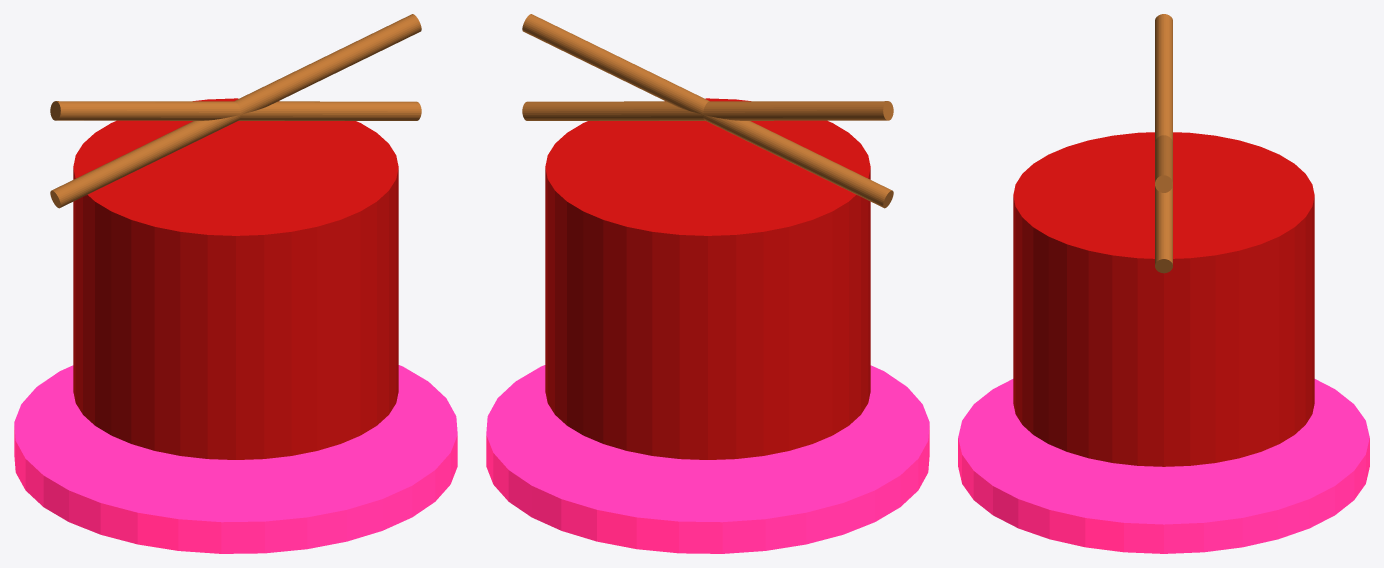
The model's file is music_drum.dae.
3 views of the same model, side by side, from view 1: azimuth 30°, elevation 25°; view 2: azimuth 150°, elevation 25°; view 3: azimuth 270°, elevation 25° (orthographic). The views are drawn at different scales.
Visible parts, largest first — view 1: 07_09_Popular_Music_Drum_part_01, 07_09_Popular_Music_Drum_ROOT_base, 07_09_Popular_Music_Drum_part_03, 07_09_Popular_Music_Drum_part_02; view 2: 07_09_Popular_Music_Drum_part_01, 07_09_Popular_Music_Drum_ROOT_base, 07_09_Popular_Music_Drum_part_03, 07_09_Popular_Music_Drum_part_02; view 3: 07_09_Popular_Music_Drum_part_01, 07_09_Popular_Music_Drum_ROOT_base, 07_09_Popular_Music_Drum_part_02, 07_09_Popular_Music_Drum_part_03.
Part boxes in pixels (box(x1,y1,x2,y2)): 07_09_Popular_Music_Drum_part_01: box(73, 98, 398, 459); 07_09_Popular_Music_Drum_ROOT_base: box(14, 365, 457, 553); 07_09_Popular_Music_Drum_part_03: box(50, 14, 421, 208); 07_09_Popular_Music_Drum_part_02: box(50, 101, 421, 120); 07_09_Popular_Music_Drum_part_01: box(545, 98, 870, 459); 07_09_Popular_Music_Drum_ROOT_base: box(486, 365, 929, 553); 07_09_Popular_Music_Drum_part_03: box(522, 14, 893, 208); 07_09_Popular_Music_Drum_part_02: box(522, 101, 893, 120); 07_09_Popular_Music_Drum_part_01: box(1013, 132, 1314, 466); 07_09_Popular_Music_Drum_ROOT_base: box(958, 379, 1369, 553); 07_09_Popular_Music_Drum_part_02: box(1155, 14, 1172, 273); 07_09_Popular_Music_Drum_part_03: box(1155, 135, 1172, 192).
Size of the model in its own units: 0.76 by 0.7585 by 0.76.
